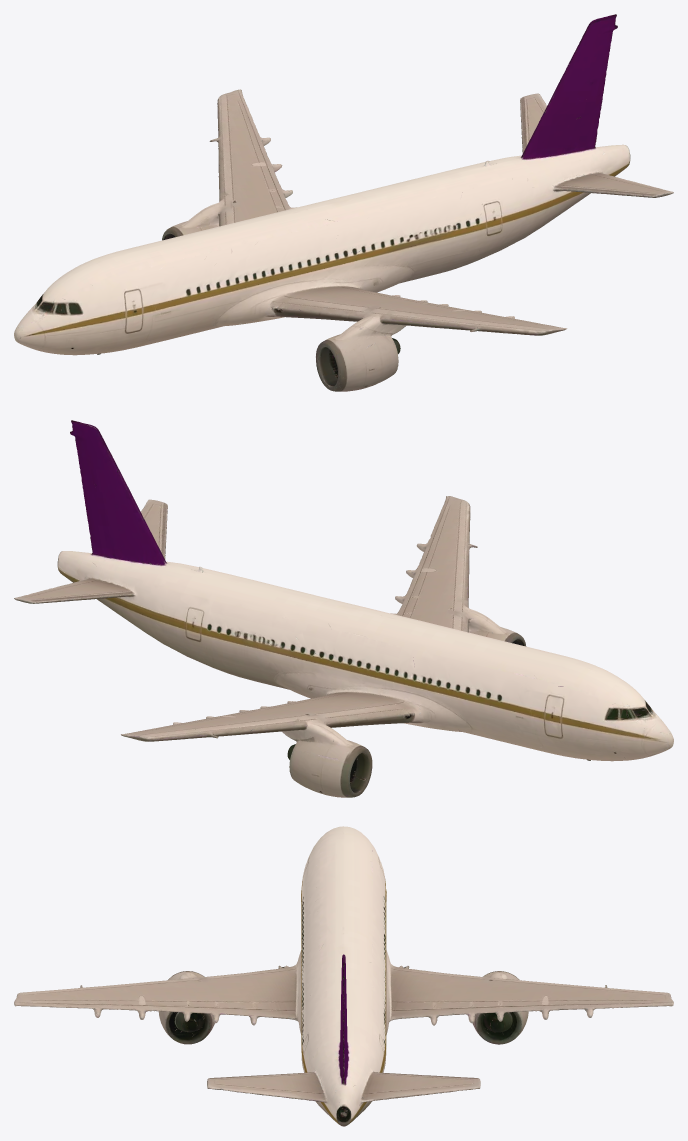
File: olus-airliner.glb
3 views of the same model, one above another, from view 1: azimuth 30°, elevation 25°; view 2: azimuth 150°, elevation 25°; view 3: azimuth 270°, elevation 25° (orthographic).
Parts seen in each view (by area): view 1: Mesh_0; view 2: Mesh_0; view 3: Mesh_0.
Part boxes in pixels (left/top/right/bottom): Mesh_0: left=14, top=14, right=673, bottom=391; Mesh_0: left=14, top=420, right=673, bottom=797; Mesh_0: left=14, top=826, right=673, bottom=1126.
Size of the model in its own units: 1.9 by 0.6932 by 1.76.
Materials: 1 (1 with a texture image).
